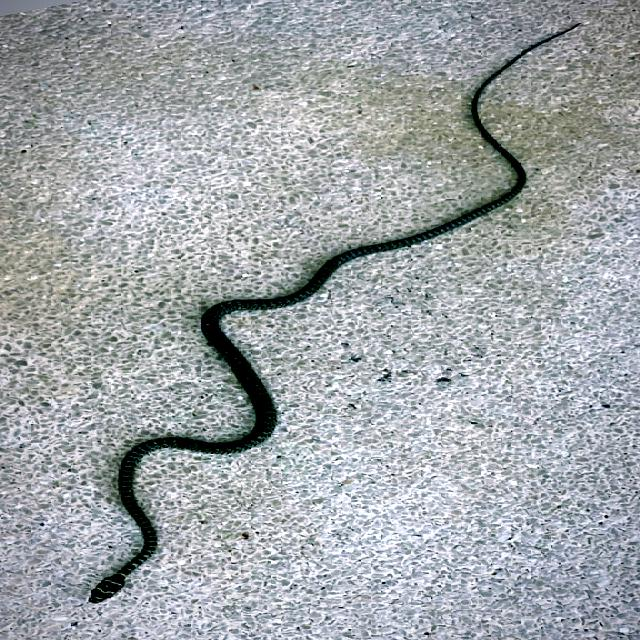Chrysopelea ornata: (89, 24, 577, 602)
